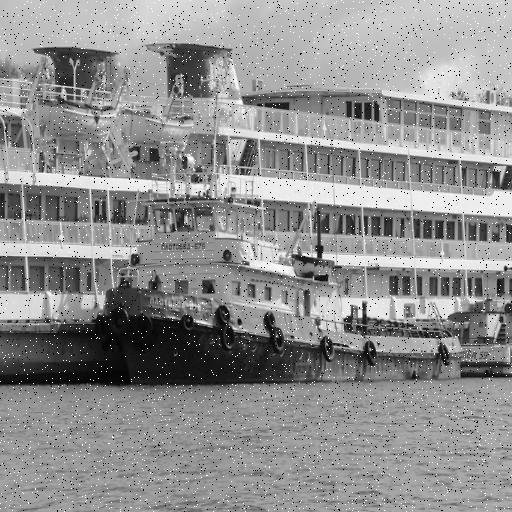tugboat: (93, 157, 465, 394)
